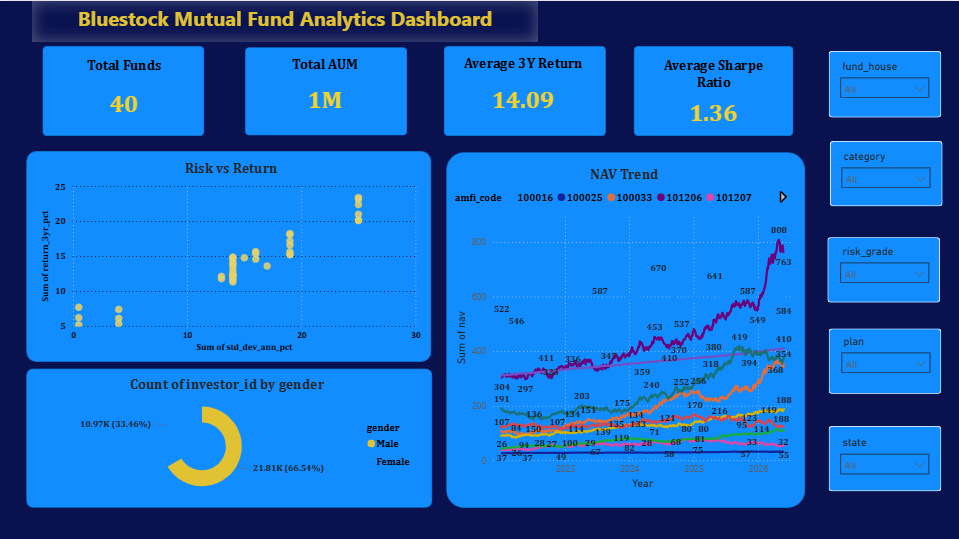

What the dashboard file says about the page in this screenshot:
{"tool":"powerbi","page":{"name":"Fund Performance","canvas":[1280,720],"ordinal":0},"visuals":[{"type":"shape","box":[57.1,60,215.7,120],"z":0},{"type":"shape","box":[591.4,60,216.2,120],"z":0,"group":"g3"},{"type":"shape","box":[845.7,60,212.9,120],"z":0,"group":"g6"},{"type":"shape","box":[1105.7,67.1,150,88.6],"z":0,"group":"g7"},{"type":"shape","box":[1107.1,187.1,150,87.1],"z":0,"group":"g8"},{"type":"shape","box":[594.3,201.4,478.6,474.3],"z":0,"group":"g1"},{"type":"shape","box":[1102.9,315.7,150,87.1],"z":0,"group":"g9"},{"type":"shape","box":[1104.3,437.1,150,87.1],"z":0,"group":"g10"},{"type":"shape","box":[34.3,490,541.4,185.7],"z":0,"group":"g2"},{"type":"shape","box":[1104.3,567.1,150,87.1],"z":0,"group":"g11"},{"type":"shape","box":[35.7,200,540,281.4],"z":5,"group":"g5"},{"type":"slicer","fields":{"Values":["clean_fund_master.fund_house"]},"box":[1111.4,73.8,138.6,78.5],"z":12,"group":"g7"},{"type":"slicer","fields":{"Values":["clean_performance.category"]},"box":[1112.8,193.7,138.6,77.2],"z":12,"group":"g8"},{"type":"slicer","fields":{"Values":["clean_performance.risk_grade"]},"box":[1109,320.6,138.6,77.1],"z":12,"group":"g9"},{"type":"slicer","fields":{"Values":["clean_fund_master.plan"]},"box":[1111.2,441.2,138.6,77.1],"z":12,"group":"g10"},{"type":"donutChart","fields":{"Category":["clean_transactions.gender"],"Y":["CountNonNull(clean_transactions.investor_id)"]},"box":[44.9,500.4,514.9,166.4],"z":12,"group":"g2"},{"type":"slicer","fields":{"Values":["clean_transactions.state"]},"box":[1108.6,576.1,138.6,74.3],"z":12,"group":"g11"},{"type":"scatterChart","title":"Risk vs Return","fields":{"X":["Sum(clean_performance.std_dev_ann_pct)"],"Y":["Sum(clean_performance.return_3yr_pct)"],"Category":["clean_performance.scheme_name"]},"box":[50.7,211.1,516.2,261.4],"z":13,"group":"g5"},{"type":"cardVisual","title":"Average Sharpe Ratio","fields":{"Data":["Avg(clean_performance.sharpe_ratio)"]},"box":[861.4,74.3,182.9,102.9],"z":1000,"group":"g6"},{"type":"group","id":"g1","title":"Group 1","box":[594.3,201.4,478.6,474.3],"z":1000},{"type":"lineChart","title":"NAV Trend","fields":{"Category":["02_nav_history_clean.date.Variation.Date Hierarchy.Year","02_nav_history_clean.date.Variation.Date Hierarchy.Quarter","02_nav_history_clean.date.Variation.Date Hierarchy.Month","02_nav_history_clean.date.Variation.Date Hierarchy.Day"],"Y":["Sum(02_nav_history_clean.nav)"],"Series":["02_nav_history_clean.amfi_code"]},"box":[601.5,219.1,461.8,436.3],"z":2000,"group":"g1"},{"type":"group","id":"g2","title":"Group 2","box":[34.3,490,541.4,185.7],"z":2000},{"type":"group","id":"g3","title":"Group 4","box":[591.4,60,215.7,120],"z":3000},{"type":"shape","box":[327.1,61.4,216.3,117.6],"z":3000,"group":"g4"},{"type":"group","id":"g4","title":"Group 5","box":[327.1,61.4,217.1,118.6],"z":4000},{"type":"cardVisual","title":"Average 3Y Return","fields":{"Data":["Avg(clean_performance.return_3yr_pct)"]},"box":[602.4,71.8,188.6,95.7],"z":5000,"group":"g3"},{"type":"group","id":"g5","title":"Group 6","box":[35.7,200,540,272.9],"z":5000},{"type":"cardVisual","title":"Total AUM","fields":{"Data":["Sum(clean_performance.aum_crore)"]},"box":[332.7,72.4,203.8,90.6],"z":6000,"group":"g4"},{"type":"cardVisual","title":"Total Funds","fields":{"Data":["CountNonNull(clean_fund_master.amfi_code)"]},"box":[72.9,74.3,184.3,100],"z":6000},{"type":"group","id":"g6","title":"Group 3","box":[845.7,60,212.9,120],"z":7000},{"type":"group","id":"g7","title":"Group 7","box":[1105.7,67.1,150,88.6],"z":8000},{"type":"group","id":"g8","title":"Group 7","box":[1107.1,187.1,150,87.1],"z":9000},{"type":"group","id":"g9","title":"Group 7","box":[1102.9,315.7,150,87.1],"z":10000},{"type":"group","id":"g10","title":"Group 7","box":[1104.3,437.1,150,87.1],"z":11000},{"type":"group","id":"g11","title":"Group 7","box":[1104.3,567.1,150,87.1],"z":12000},{"type":"textbox","box":[43,0,673.3,54.7],"z":13000}]}

Visuals, with their boxes in screenshot pixels (x1, y1, x2, y2), scaled from the page's 1280x720 canvas onto the 959x539 screenshot:
shape: 43/45/204/135
shape: 443/45/605/135
shape: 634/45/793/135
shape: 828/50/941/117
shape: 829/140/942/205
shape: 445/151/804/506
shape: 826/236/939/302
shape: 827/327/940/392
shape: 26/367/431/506
shape: 827/425/940/490
shape: 27/150/431/360
slicer - clean_fund_master.fund_house: 833/55/937/114
slicer - clean_performance.category: 834/145/938/203
slicer - clean_performance.risk_grade: 831/240/935/298
slicer - clean_fund_master.plan: 833/330/936/388
donutChart - clean_transactions.gender x CountNonNull(clean_transactions.investor_id): 34/375/419/499
slicer - clean_transactions.state: 831/431/934/487
"Risk vs Return" scatterChart: 38/158/425/354
"Average Sharpe Ratio" cardVisual: 645/56/782/133
"Group 1" group: 445/151/804/506
"NAV Trend" lineChart: 451/164/797/491
"Group 2" group: 26/367/431/506
"Group 4" group: 443/45/605/135
shape: 245/46/407/134
"Group 5" group: 245/46/408/135
"Average 3Y Return" cardVisual: 451/54/593/125
"Group 6" group: 27/150/431/354
"Total AUM" cardVisual: 249/54/402/122
"Total Funds" cardVisual: 55/56/193/130
"Group 3" group: 634/45/793/135
"Group 7" group: 828/50/941/117
"Group 7" group: 829/140/942/205
"Group 7" group: 826/236/939/302
"Group 7" group: 827/327/940/392
"Group 7" group: 827/425/940/490
textbox: 32/0/537/41
